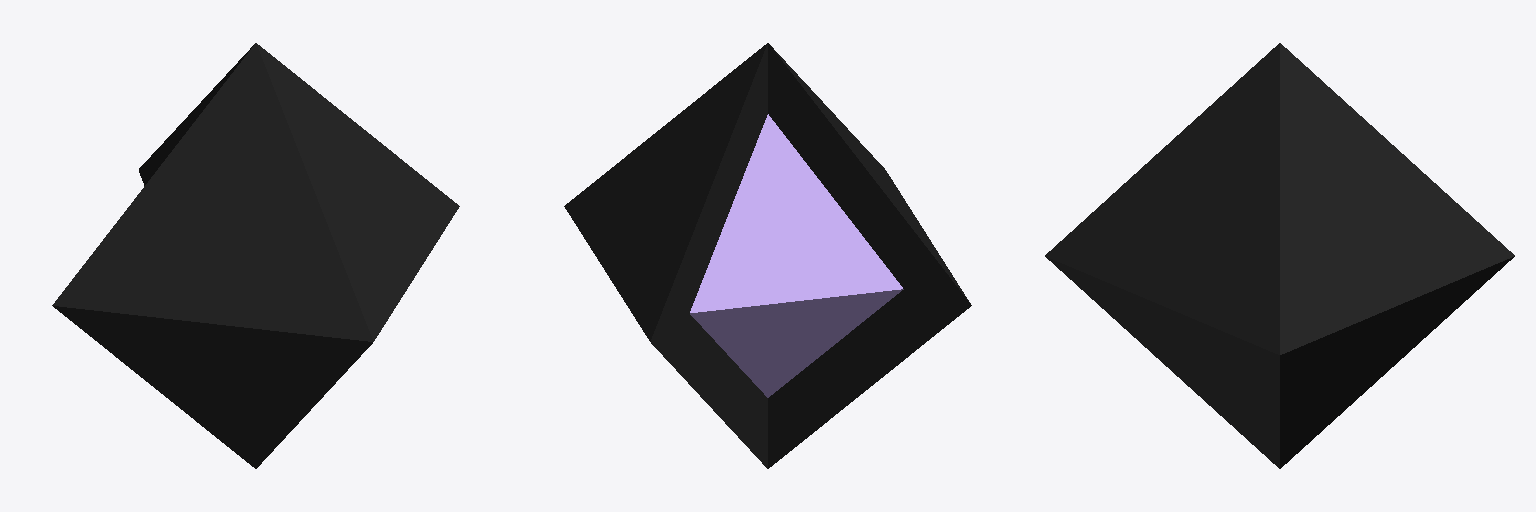
3 renders of one model, left to right at view 1: azimuth 30°, elevation 25°; view 2: azimuth 150°, elevation 25°; view 3: azimuth 270°, elevation 25°, orthographic.
Parts seen in each view (by area): view 1: Plane.002; view 2: Plane.002, Plane; view 3: Plane.002.
Boxes of the visible parts, <box> form: Plane.002: <box>52,43,459,468</box>; Plane.002: <box>564,43,971,468</box>; Plane: <box>690,114,903,397</box>; Plane.002: <box>1045,43,1514,468</box>.
Bounding box in the file's own units: 6 × 6 × 6.
2 materials, 2 textured.